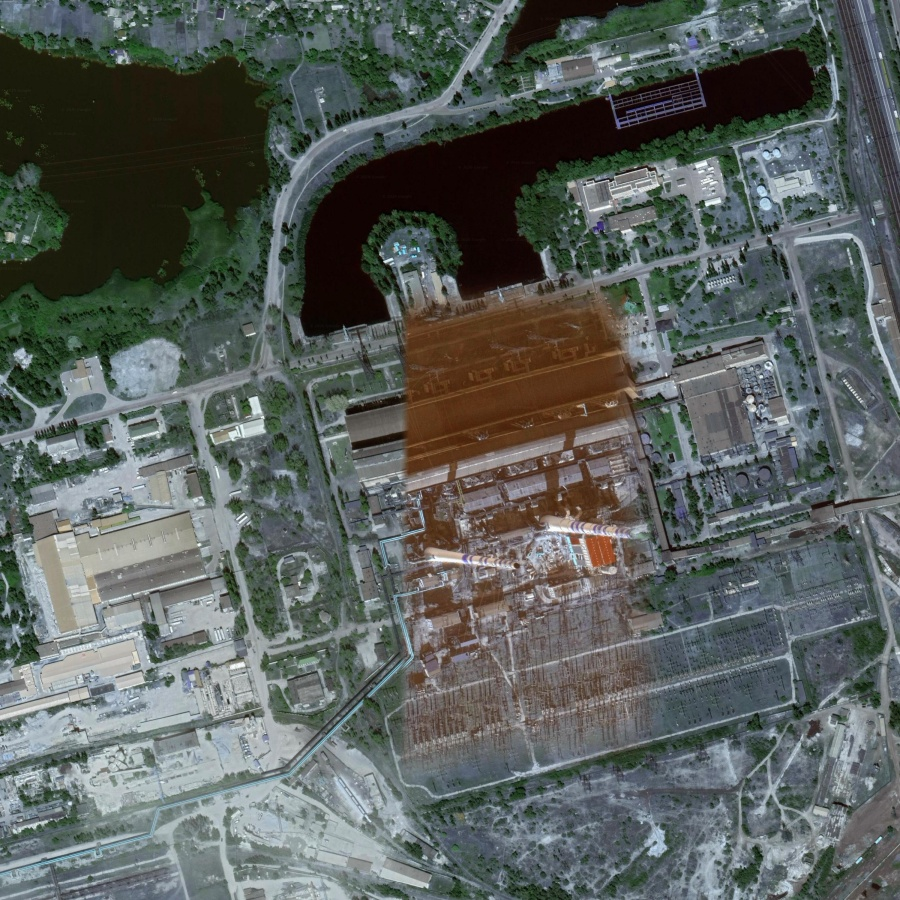PowerPlant: (369, 388, 709, 657)
